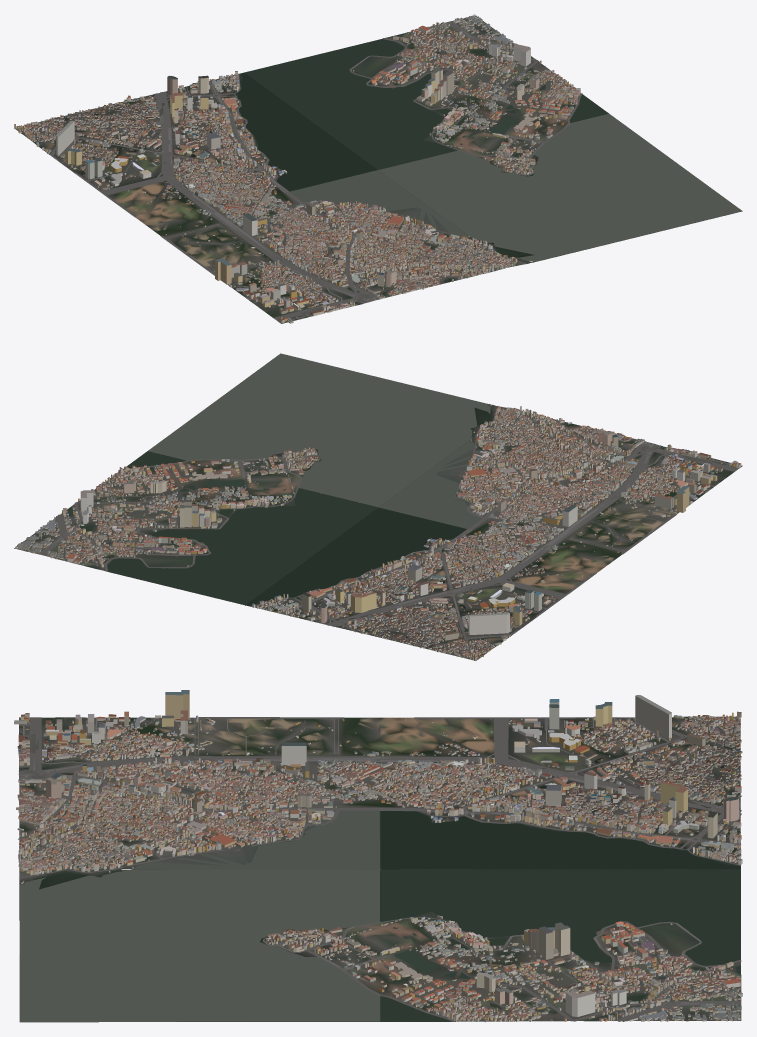
3 views of the same model, one above another, from view 1: azimuth 30°, elevation 25°; view 2: azimuth 150°, elevation 25°; view 3: azimuth 270°, elevation 25° (orthographic). The views are drawn at different scales.
Visible parts, largest first — view 1: water, buildings, ground, roads; view 2: water, buildings, ground, roads; view 3: water, buildings, ground, roads.
Part boxes in pixels (x1,y1,x2,y2): water: [93, 33, 742, 304]; buildings: [14, 14, 580, 323]; ground: [14, 17, 742, 323]; roads: [15, 21, 582, 320]; water: [67, 353, 664, 638]; buildings: [15, 404, 741, 660]; ground: [14, 370, 742, 660]; roads: [28, 406, 738, 659]; water: [19, 757, 740, 1021]; buildings: [14, 690, 742, 1022]; ground: [19, 716, 741, 1022]; roads: [18, 716, 741, 1021].
Size of the model in its own units: 2827 by 117 by 2833.
